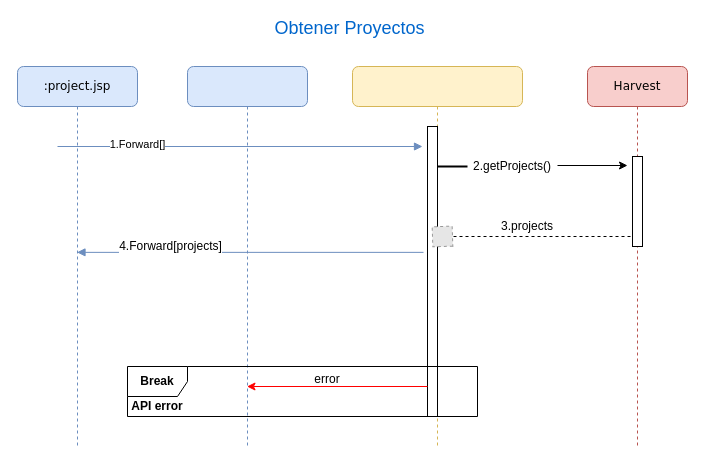
Some shapes in this 705 by 464 pixel diagram are drawn without their labels. Grey dashed boxes stand in for pictures. The shapes that lost their labels are listed below. From the top down, each one's box as (x1, y1, x2, y2) in pixels, then its label:
(186, 66, 308, 446): :error.jsp
(352, 66, 522, 446): :GetProjectsController.java
